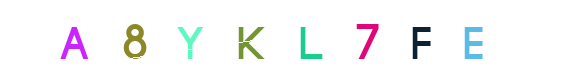7: (317, 0, 397, 80)
8: (148, 0, 228, 80)
A: (37, 0, 117, 80)
E: (379, 0, 459, 80)
F: (328, 0, 408, 80)
K: (246, 0, 326, 80)
L: (267, 0, 347, 80)
Y: (239, 0, 319, 80)
